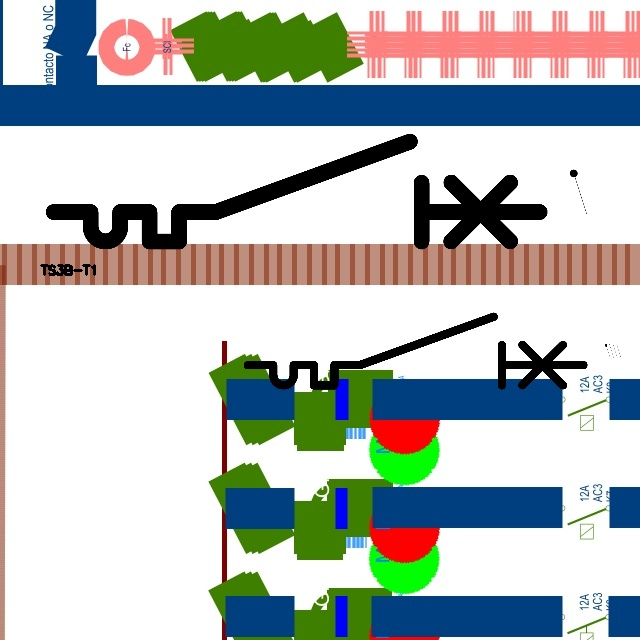interruptor_termomagnetico: (41, 129, 552, 254), (239, 308, 592, 394)
